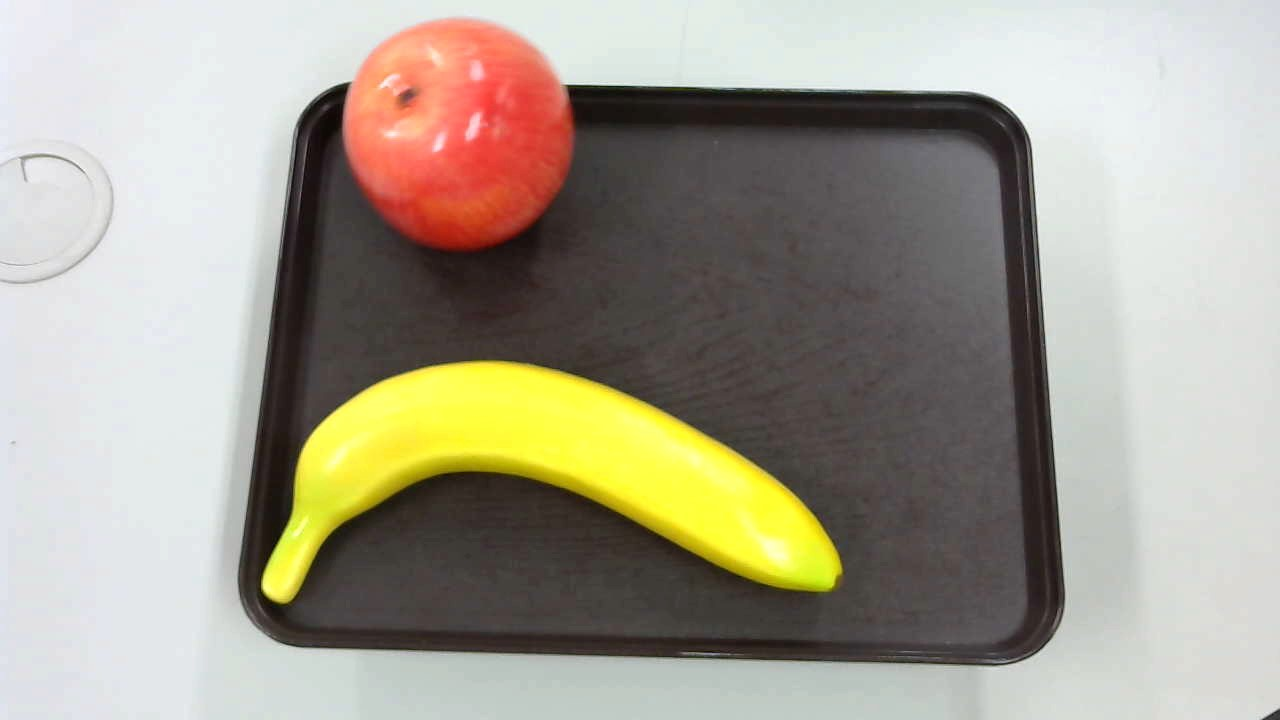banana: (259, 356, 849, 607)
red apple: (340, 20, 571, 251)
